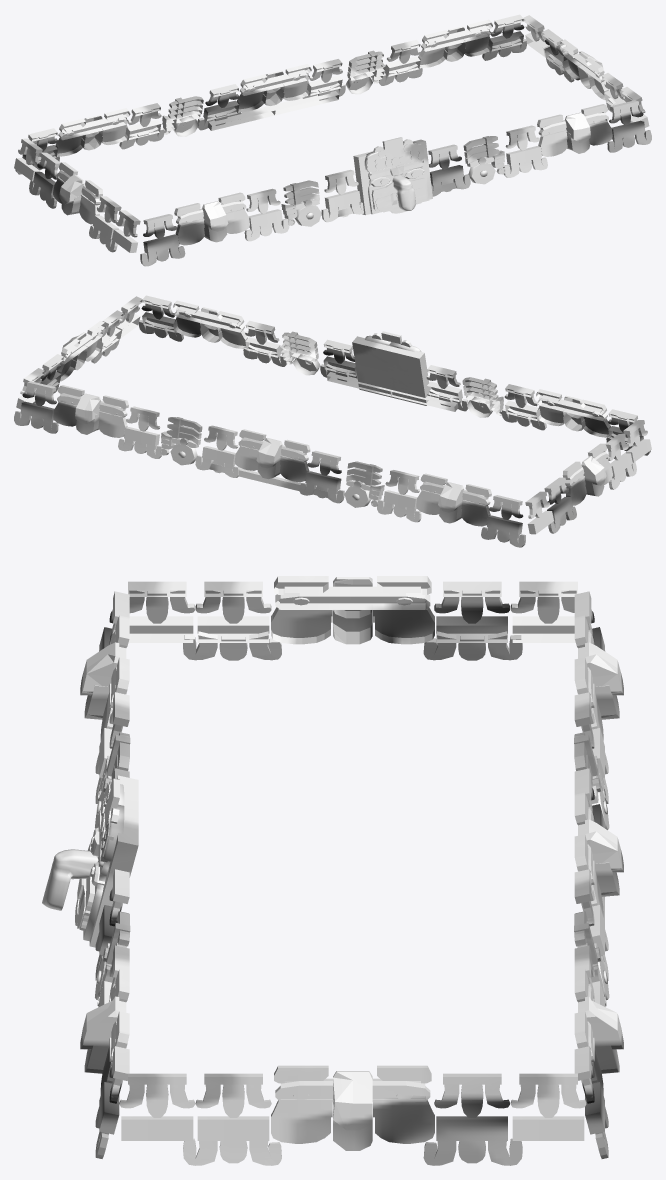
The model's file is maya_masks_cc.dae.
3 renders of one model, top to bottom at view 1: azimuth 30°, elevation 25°; view 2: azimuth 150°, elevation 25°; view 3: azimuth 270°, elevation 25°, orthographic. The views are drawn at different scales.
Parts seen in each view (by area): view 1: masks; view 2: masks; view 3: masks.
Part boxes in pixels (bbox=[...]): masks: bbox=[14, 14, 651, 266]; masks: bbox=[14, 295, 651, 547]; masks: bbox=[42, 576, 623, 1165].
Size of the model in its own units: 26.98 by 12.68 by 3.19.
Materials: 1 (1 with a texture image).
